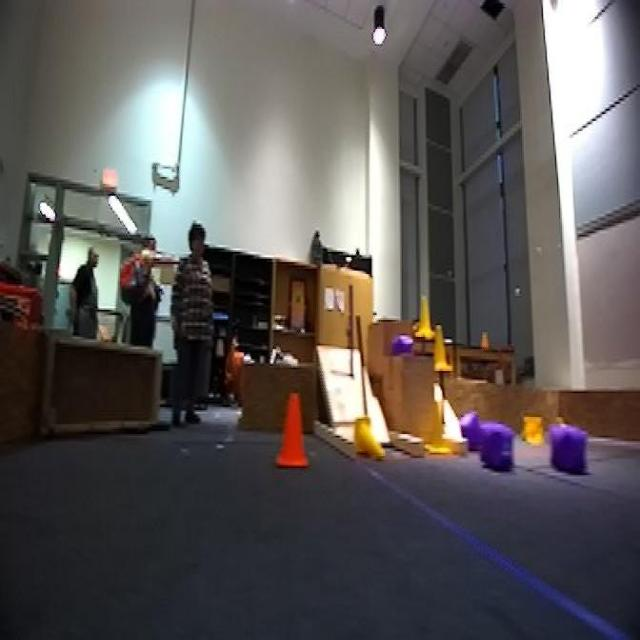frc_cone: (426, 396, 453, 454), (354, 414, 386, 461), (413, 296, 437, 341), (518, 412, 549, 446), (432, 324, 453, 374)
frc_cube: (550, 422, 590, 475), (479, 421, 513, 468), (457, 408, 482, 449), (389, 335, 414, 356)
